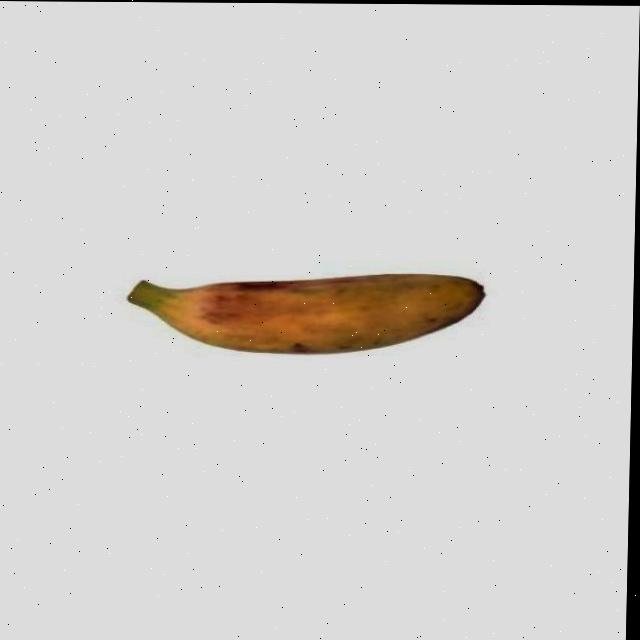banana: (110, 265, 493, 359)
